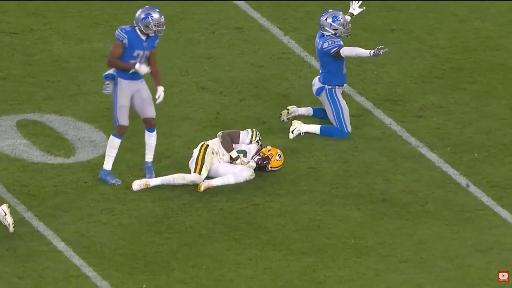Helmet: (134, 7, 165, 34), (319, 10, 350, 36), (258, 147, 283, 170)
Jersey: (115, 26, 159, 63), (316, 32, 346, 86), (234, 129, 260, 159)
Player: (280, 1, 387, 138), (99, 7, 165, 184), (132, 129, 283, 191), (0, 204, 14, 232)
